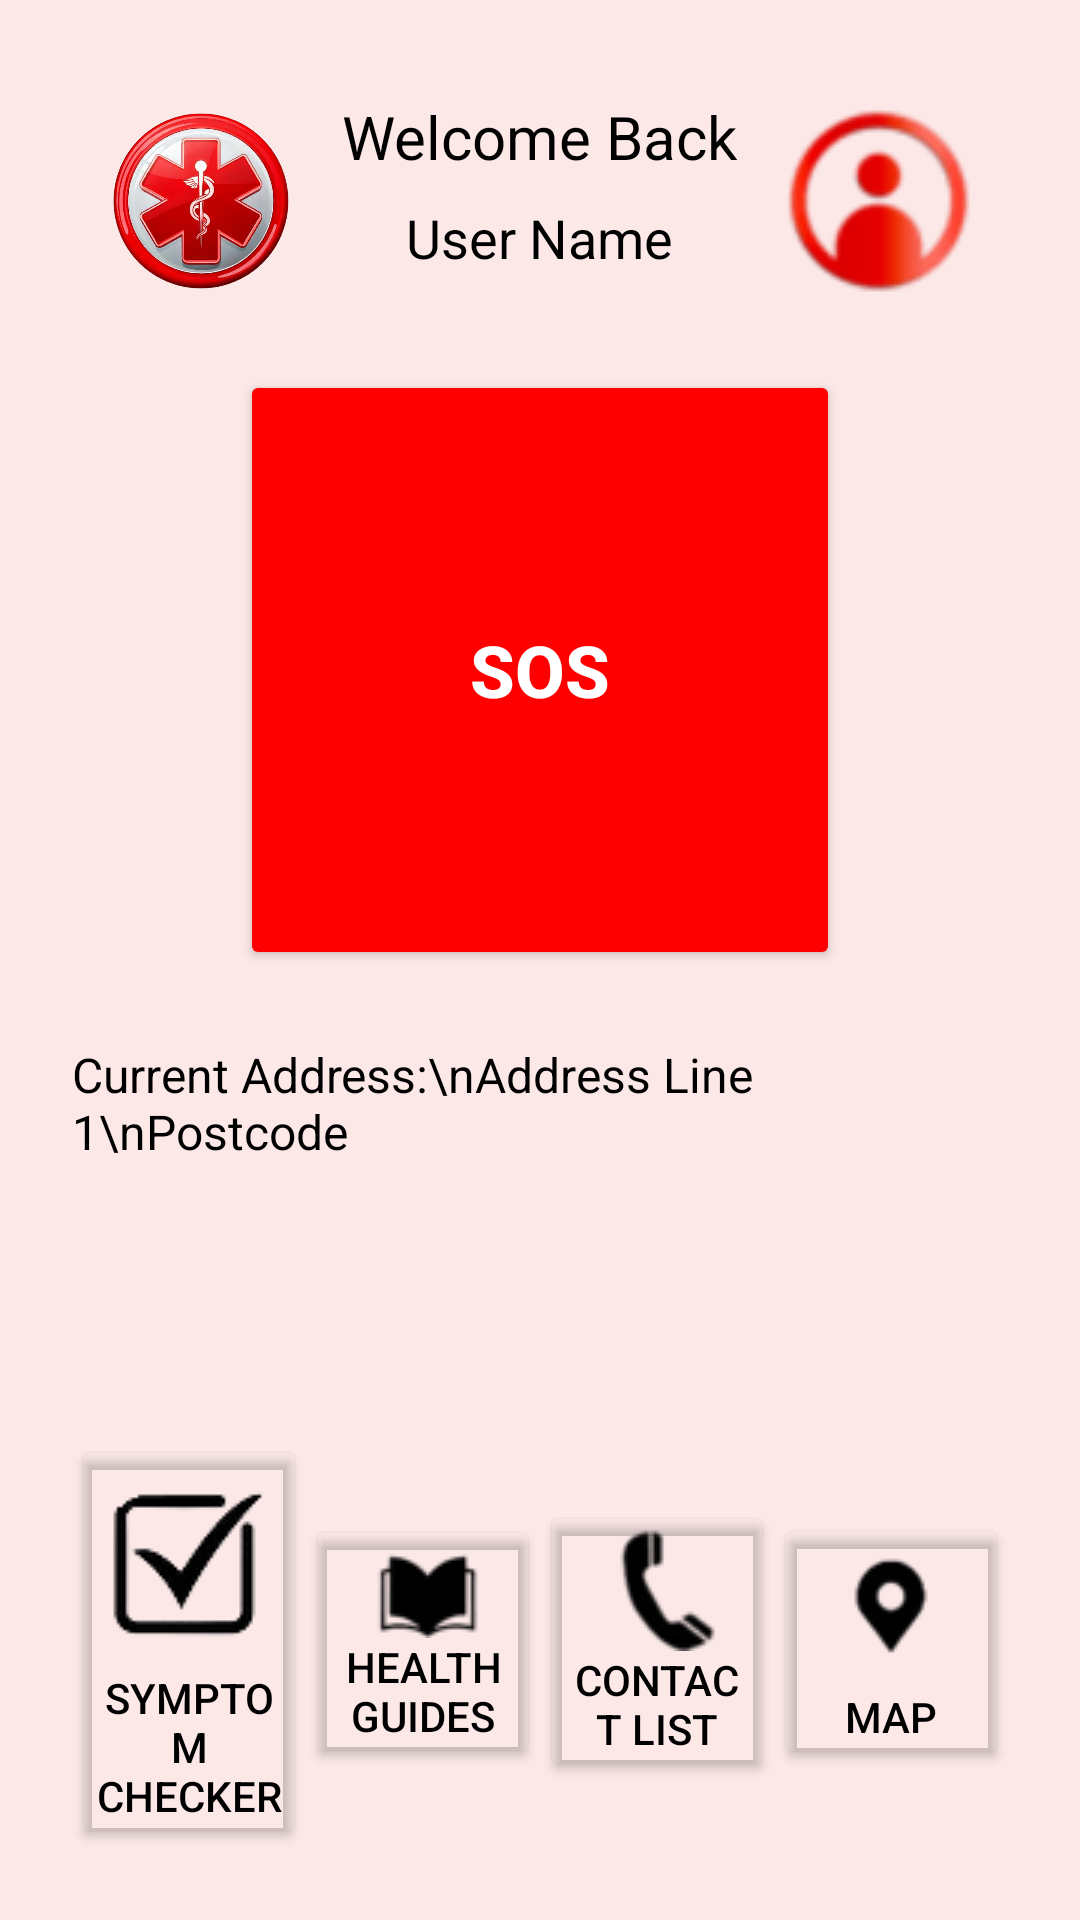

Point at icon controls on the screen. Image size 1080px×1920px, points as (x,y).
Emergency Icon: (201,201)
User Profile: (878,200)
